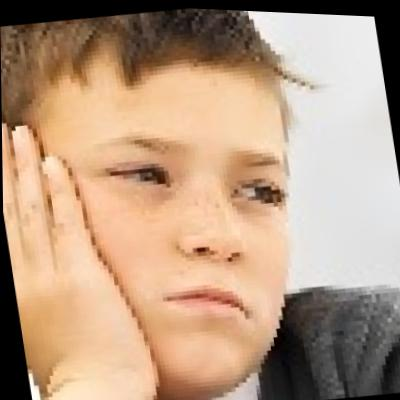angry: (4, 15, 308, 386)
